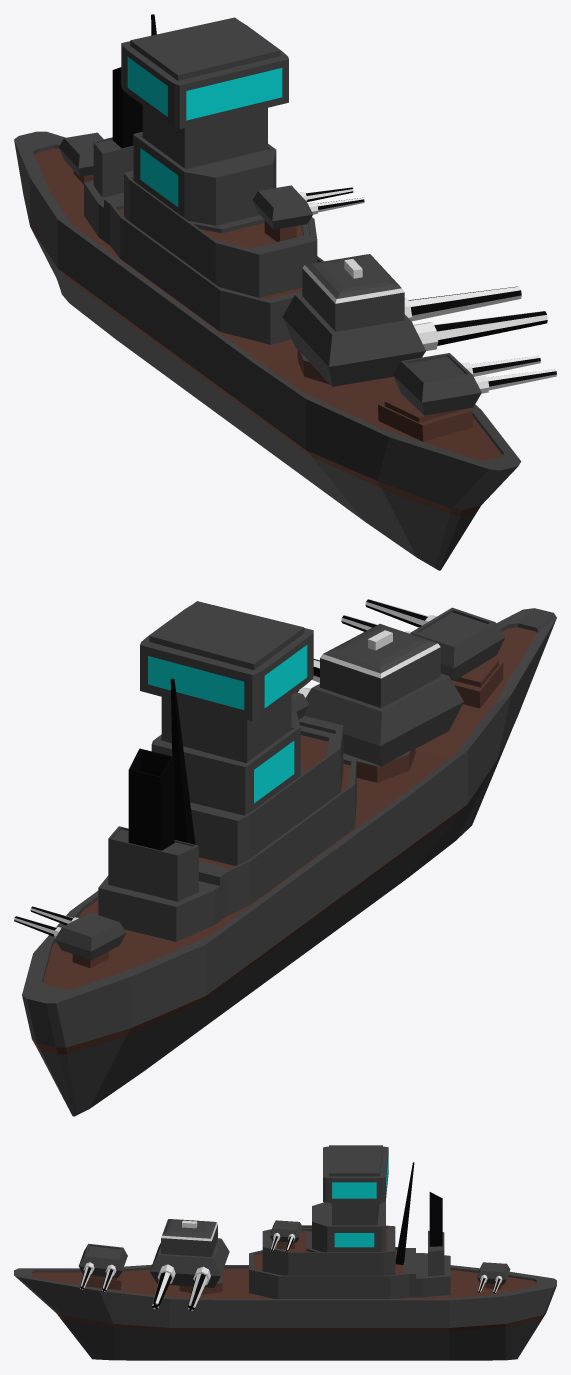
File: Warship.fbx
3 views of the same model, one above another, from view 1: azimuth 30°, elevation 25°; view 2: azimuth 150°, elevation 25°; view 3: azimuth 270°, elevation 25° (orthographic). The views are drawn at different scales.
Parts seen in each view (by area): view 1: Cube, Cube.001, Cube.002, Cube.003, Cube.004; view 2: Cube, Cube.001, Cube.002, Cube.004; view 3: Cube, Cube.001, Cube.002, Cube.004, Cube.003.
Part boxes in pixels (x1,y1,x2,y2): Cube: [14, 14, 521, 570]; Cube.001: [282, 254, 547, 386]; Cube.002: [393, 353, 556, 415]; Cube.003: [252, 185, 364, 229]; Cube.004: [59, 132, 103, 184]; Cube: [22, 601, 556, 1116]; Cube.001: [297, 624, 463, 766]; Cube.002: [341, 599, 505, 680]; Cube.004: [14, 906, 125, 968]; Cube: [14, 1145, 556, 1360]; Cube.001: [150, 1219, 229, 1310]; Cube.002: [78, 1243, 127, 1291]; Cube.004: [477, 1262, 510, 1294]; Cube.003: [269, 1220, 302, 1252].
Size of the model in its own units: 362 by 524 by 1293.
